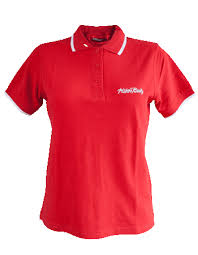S_polo shirt: (12, 29, 188, 241)
